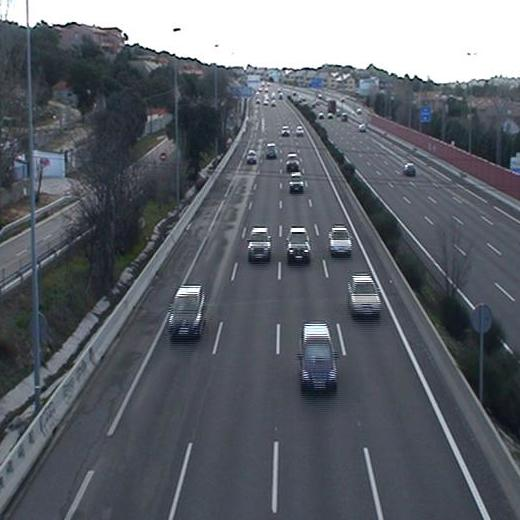car: (295, 321, 337, 393), (166, 286, 208, 342), (344, 272, 382, 316), (284, 227, 313, 262), (246, 226, 273, 261), (327, 225, 352, 257), (287, 170, 305, 194), (284, 153, 300, 171), (264, 143, 279, 159), (245, 149, 257, 166)
